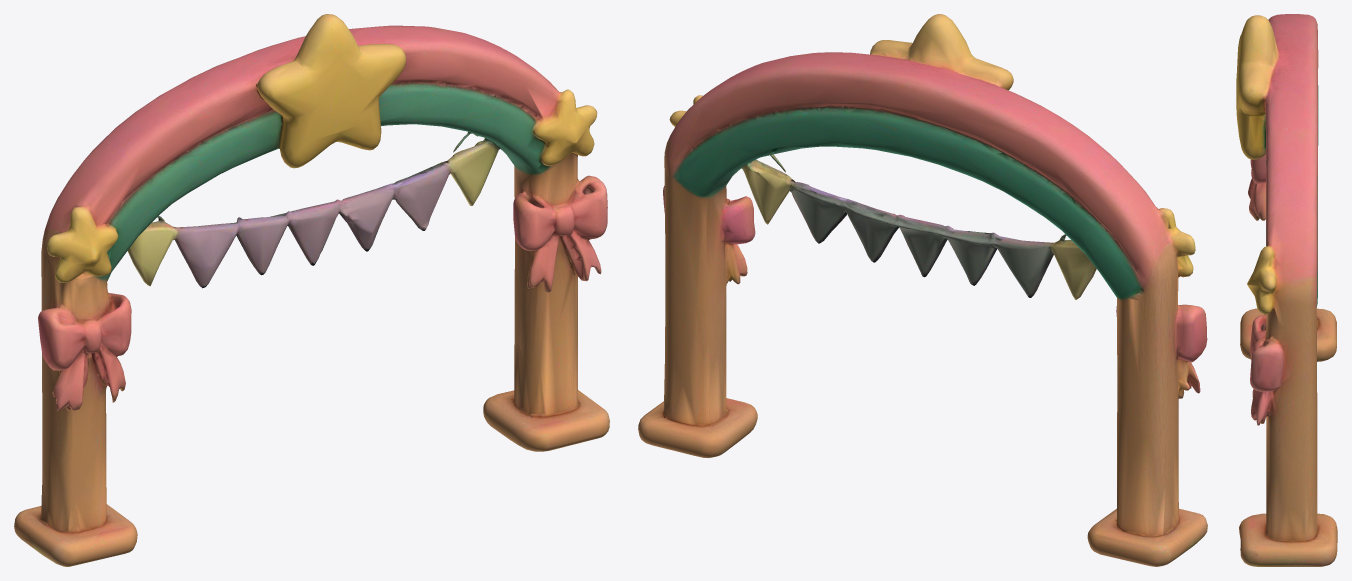
The model's file is gate-goal.glb.
3 renders of one model, left to right at view 1: azimuth 30°, elevation 25°; view 2: azimuth 150°, elevation 25°; view 3: azimuth 270°, elevation 25°, orthographic. The views are drawn at different scales.
Visible parts, largest first — view 1: Mesh_0; view 2: Mesh_0; view 3: Mesh_0.
Part boxes in pixels (bbox=[...]): Mesh_0: bbox=[14, 14, 609, 566]; Mesh_0: bbox=[638, 14, 1207, 566]; Mesh_0: bbox=[1236, 14, 1337, 566].
Bounding box in the file's own units: 2 × 1.66 × 0.3511.
Materials: 1 (1 with a texture image).
